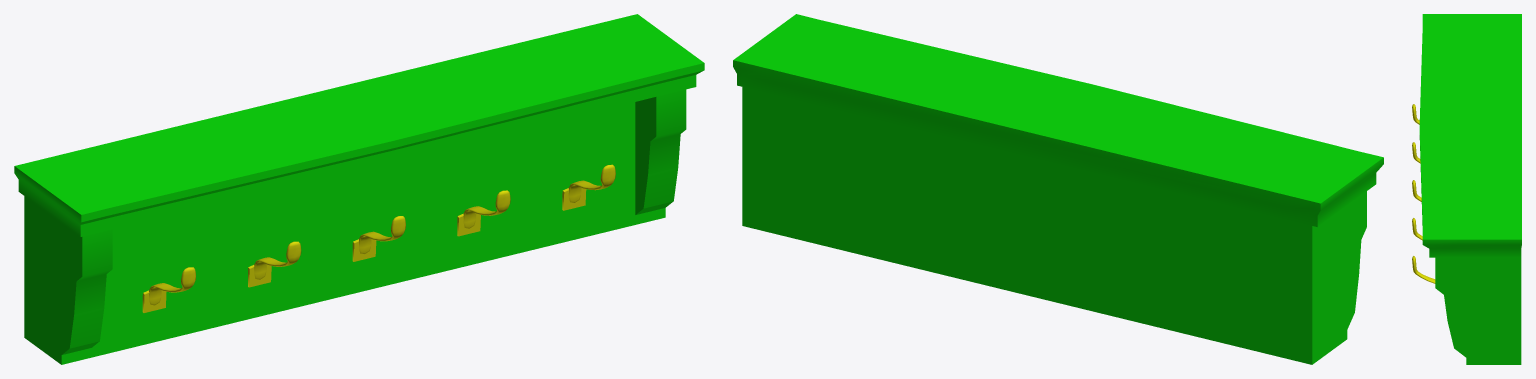
Rendered from coat_hanger.fbx.
The picture shows the model from 3 angles, left to right: view 1: azimuth 30°, elevation 25°; view 2: azimuth 150°, elevation 25°; view 3: azimuth 270°, elevation 25°; orthographic projection. The views are drawn at different scales.
Parts seen in each view (by area): view 1: coat_hanger; view 2: coat_hanger; view 3: coat_hanger.
Boxes of the visible parts, <box> form: coat_hanger: <box>14,14,704,364</box>; coat_hanger: <box>733,14,1383,364</box>; coat_hanger: <box>1412,14,1521,364</box>.
Bounding box in the file's own units: 9.69 × 2.58 × 1.99.
